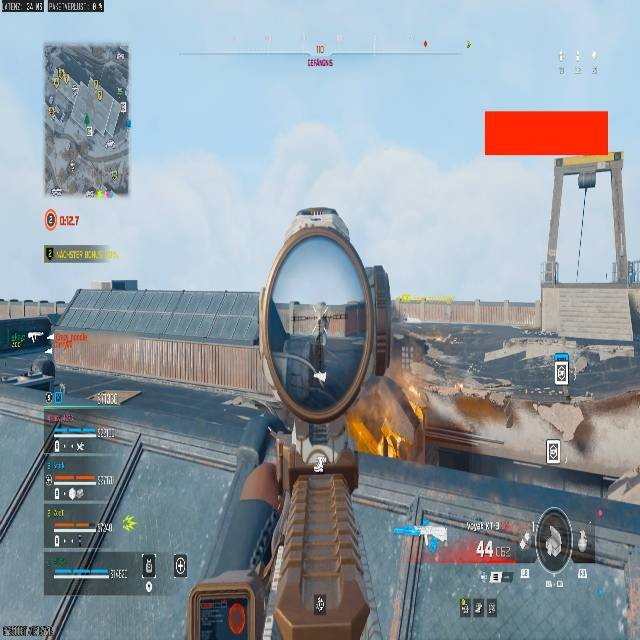player: (317, 324, 326, 344)
